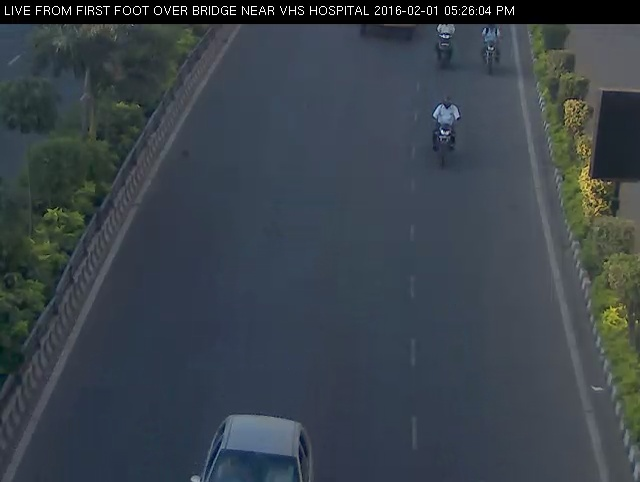Bus: (350, 17, 424, 43)
Car: (178, 396, 326, 482)
Person: (422, 80, 469, 178), (425, 13, 466, 72), (477, 17, 505, 82)
